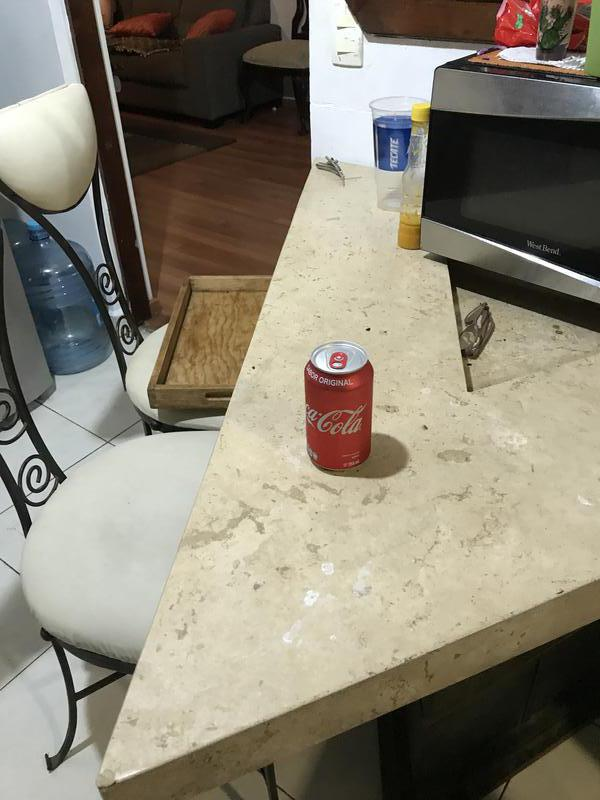coca_cola: (306, 344, 374, 472)
